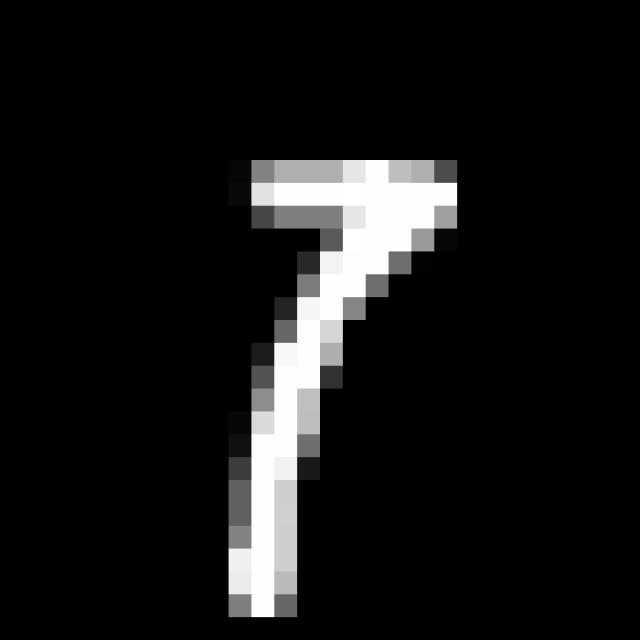seven -7-: (194, 140, 460, 630)
